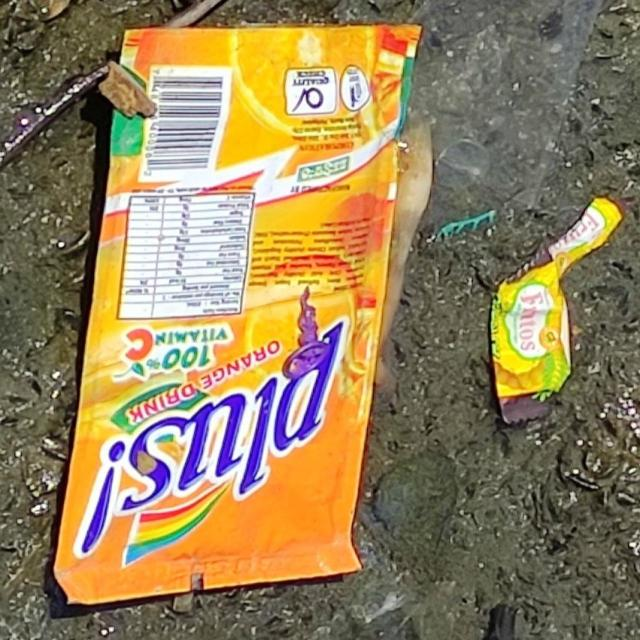plastic_waste: (51, 25, 425, 605), (492, 199, 626, 425)
